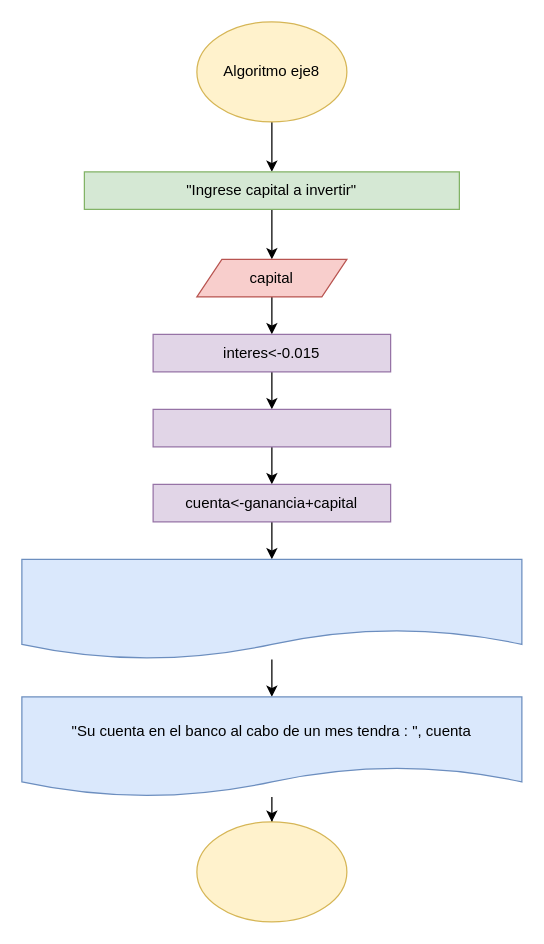
Some shapes in this 544 by 944 pixel diagram are drawn without their labels. The box of each missing label's shape, as (x1, y1, x2, y2) in pixels:
" Su inversion es de ", capital, " y su ganancia mensual es de : ", ganancia: (21, 558, 522, 659)
FinAlgoritmo: (196, 821, 347, 922)
ganancia<- capital*interes: (152, 408, 391, 447)
